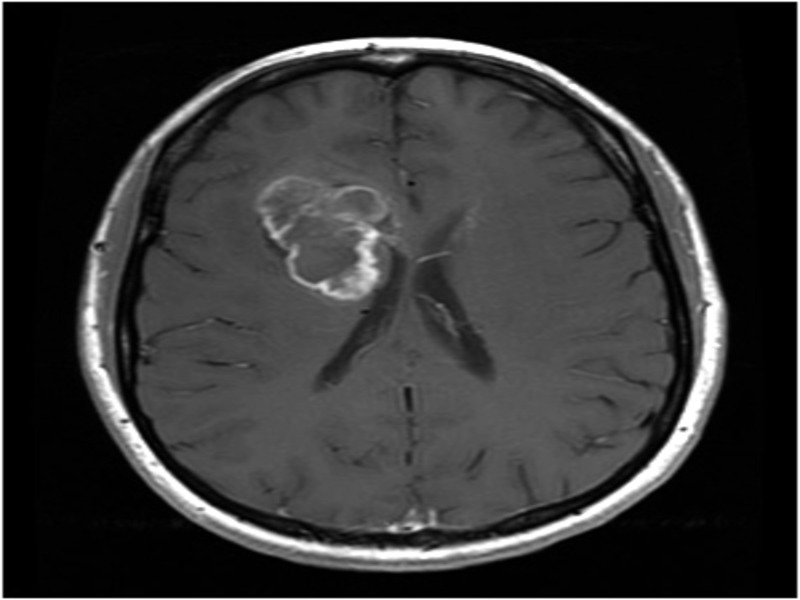tumor: (248, 161, 404, 308)
